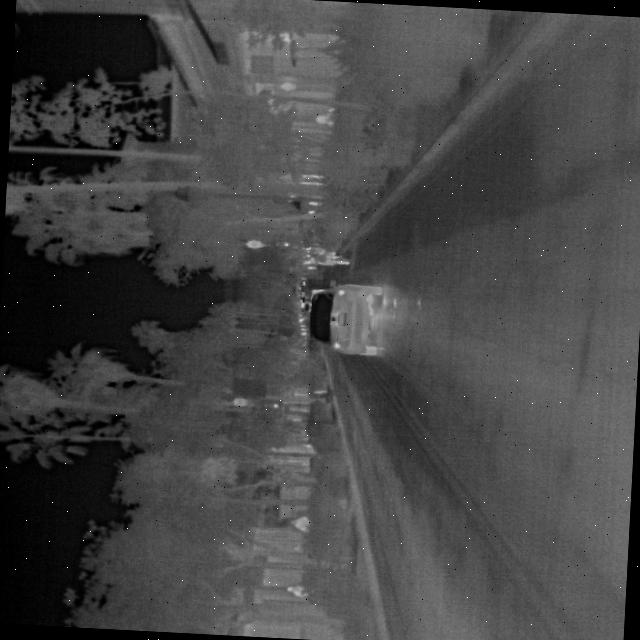Pedestrian: (306, 246, 352, 270), (282, 582, 313, 602), (284, 512, 312, 534)
Vehicle: (304, 278, 388, 360)
